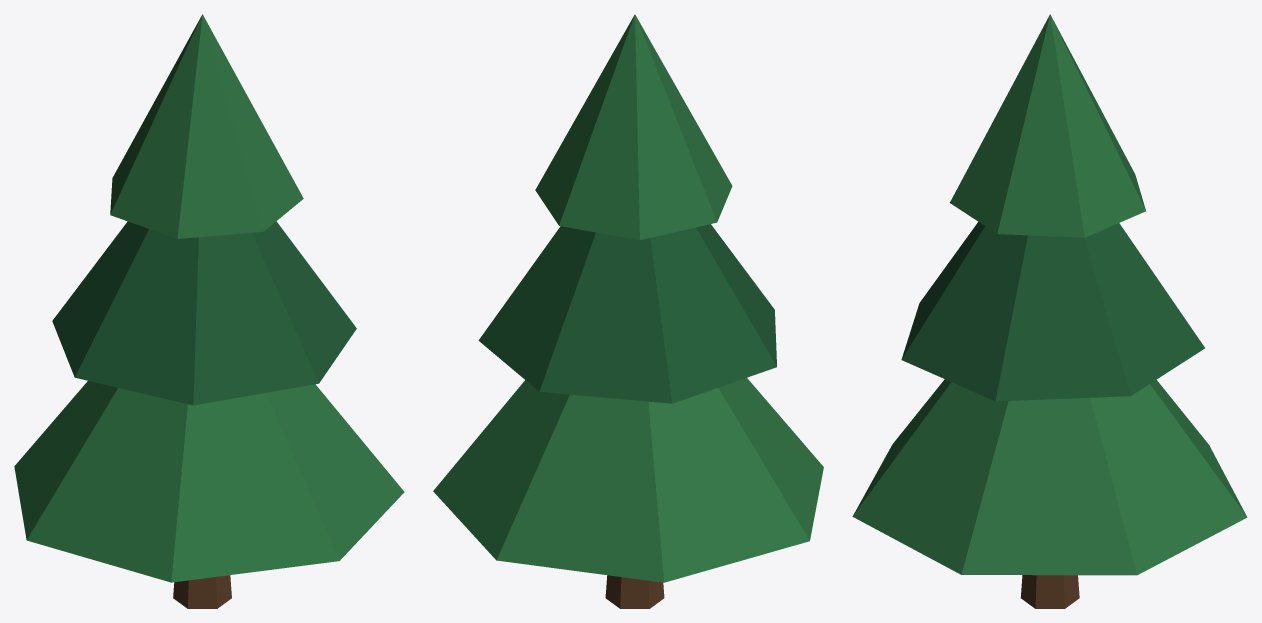
File: TreePine.glb
The picture shows the model from 3 angles, left to right: view 1: azimuth 30°, elevation 25°; view 2: azimuth 150°, elevation 25°; view 3: azimuth 270°, elevation 25°; orthographic projection.
Visible parts, largest first — view 1: TreePine; view 2: TreePine; view 3: TreePine.
Part boxes in pixels (x1,y1,x2,y2): TreePine: [14, 14, 404, 608]; TreePine: [433, 14, 823, 608]; TreePine: [852, 14, 1247, 608].
Size of the model in its own units: 2.09 by 3.5 by 2.14.
